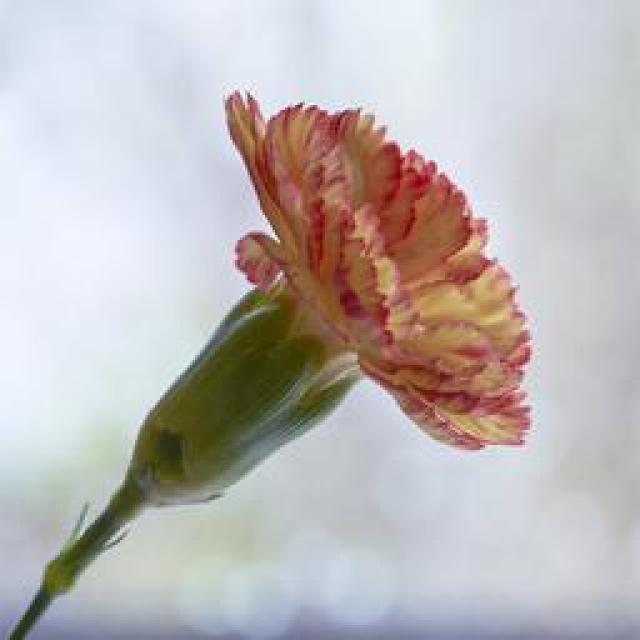carnation: (185, 67, 562, 524)
